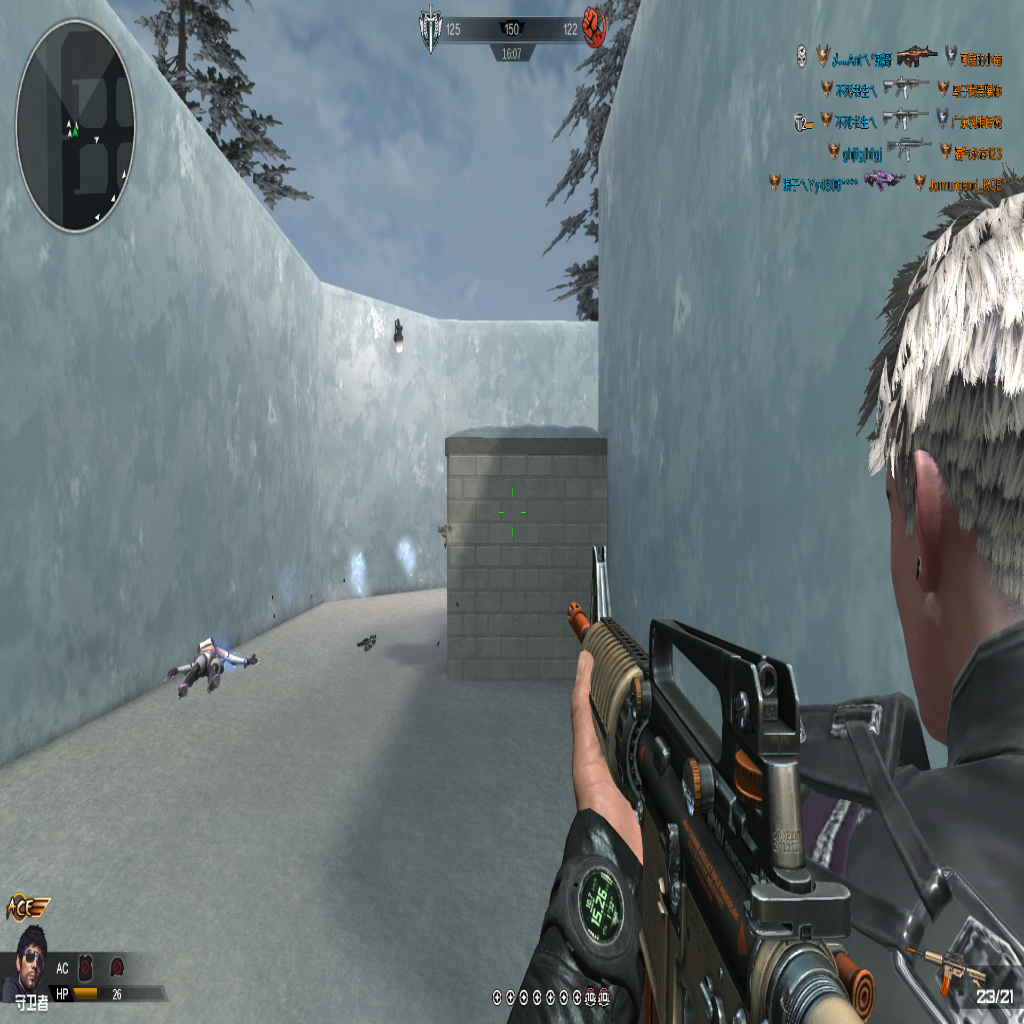ct: (676, 225, 1019, 968)
